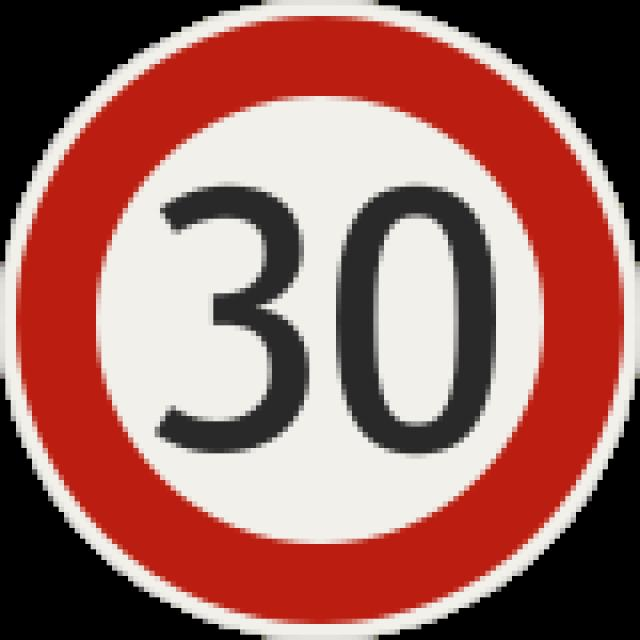Speed Limit -30-: (144, 175, 502, 463)
